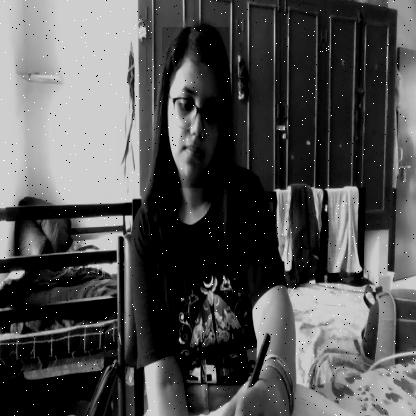Normal: (162, 27, 229, 188)
